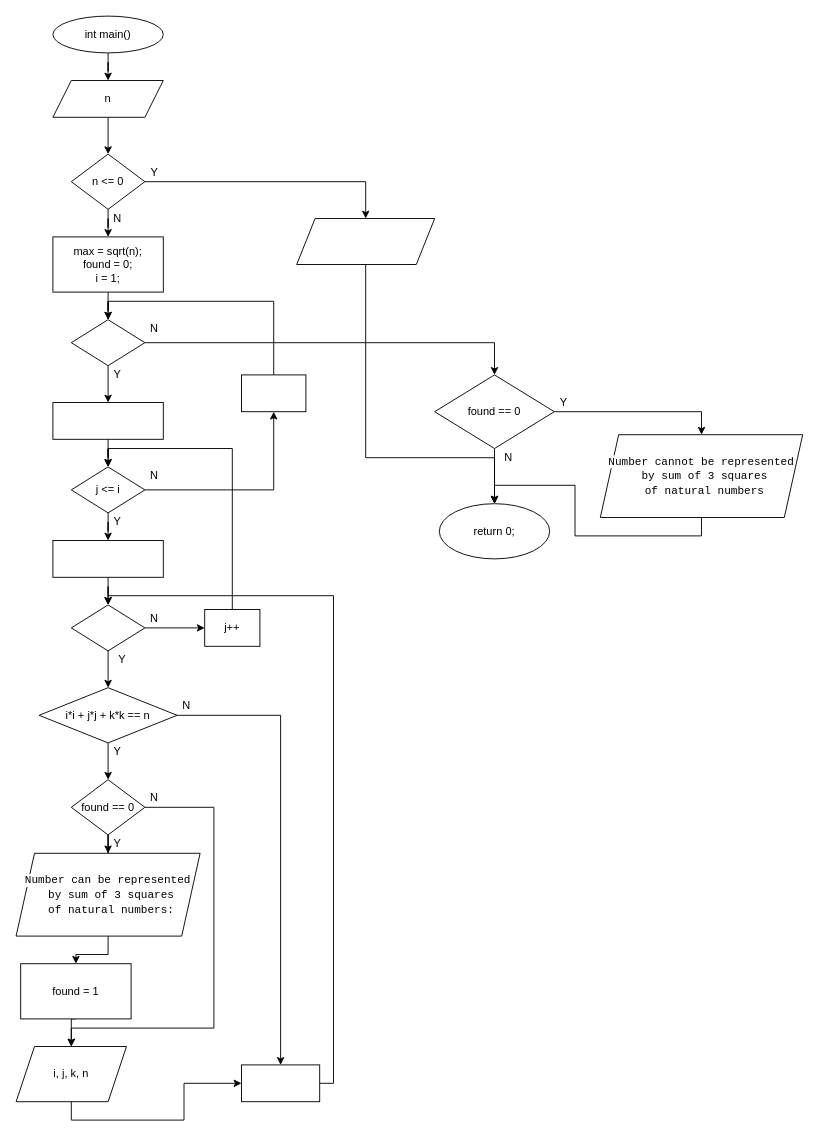
The diagram is 819 pixels wide and 1144 high, and some of its shapes have lost their labels. The shapes that lost their labels are listed below. From the top down, each one's box as (x1, y1, x2, y2) in pixels, then its label:
(296, 218, 435, 264): Incorrect input.
(70, 319, 145, 366): i < max
(241, 374, 306, 412): i++
(52, 402, 163, 439): j = 1;
(52, 540, 163, 577): k = 1
(70, 604, 145, 651): k <= j
(241, 1064, 320, 1102): k++
